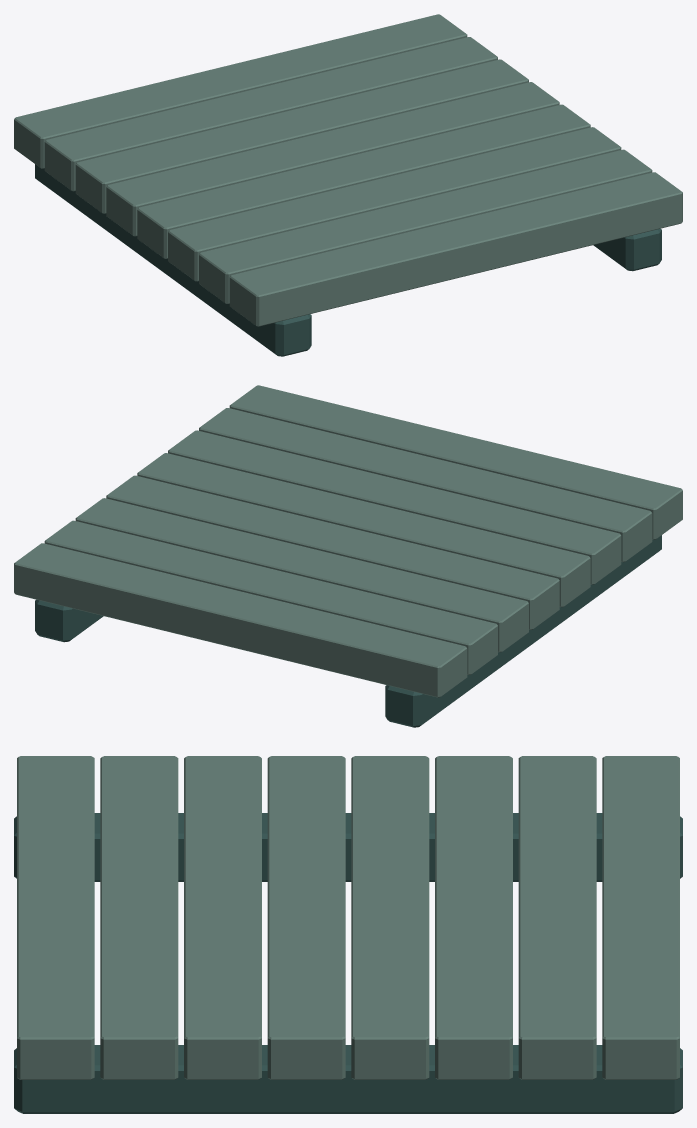
The model's file is floor-deck.glb.
3 views of the same model, one above another, from view 1: azimuth 30°, elevation 25°; view 2: azimuth 150°, elevation 25°; view 3: azimuth 270°, elevation 25° (orthographic). The views are drawn at different scales.
Visible parts, largest first — view 1: floor-deck__body; view 2: floor-deck__body; view 3: floor-deck__body.
Boxes of the visible parts, box(x1,y1,x2,y2) form: floor-deck__body: box(14, 14, 682, 356); floor-deck__body: box(14, 385, 682, 727); floor-deck__body: box(14, 756, 682, 1113).
Bounding box in the file's own units: 2 × 0.3 × 2.
